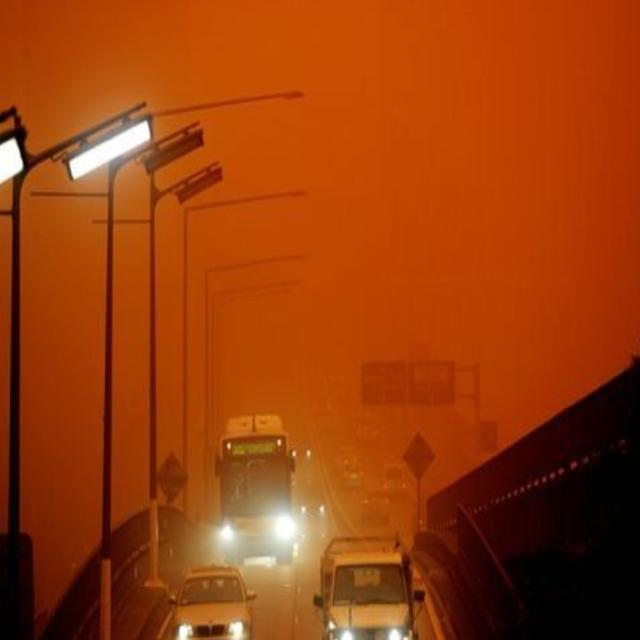car: (318, 543, 420, 640), (168, 563, 253, 640), (360, 487, 391, 527), (384, 463, 408, 499), (302, 491, 326, 519), (343, 463, 367, 489), (357, 417, 380, 443)
